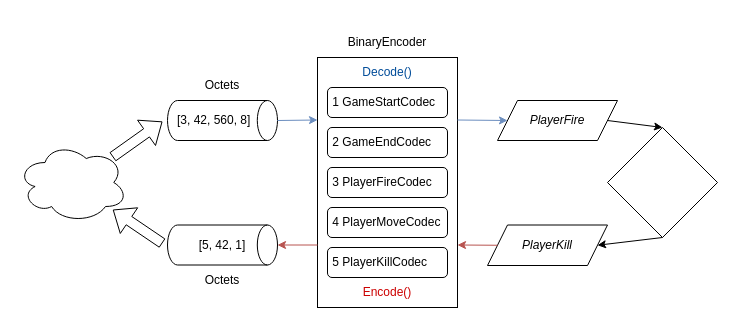
Some shapes in this 735 by 334 pixel diagram are drawn without their labels. The shapes that lost their labels are listed below. From the top down, each one's box as (x1, y1, x2, y2) in pixels, then its label:
(16, 142, 128, 222): Socket
(606, 126, 718, 238): App Logic (pew pew)
